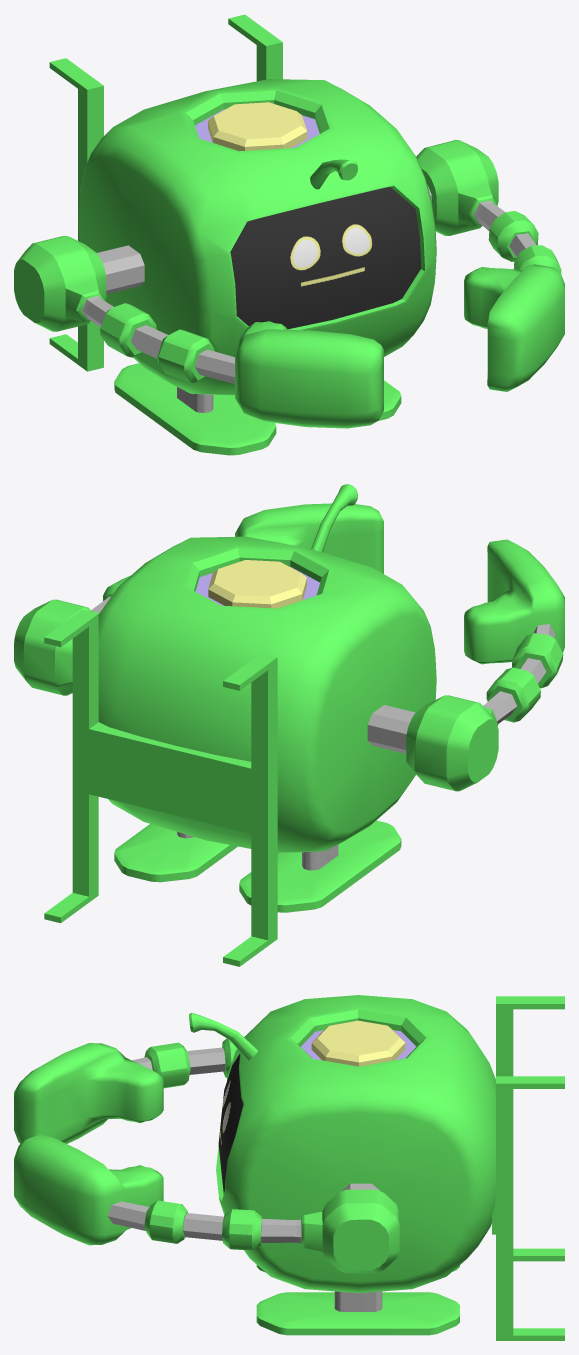
Rendered from Chara_02G.fbx.
The picture shows the model from 3 angles, top to bottom: view 1: azimuth 30°, elevation 25°; view 2: azimuth 150°, elevation 25°; view 3: azimuth 270°, elevation 25°; orthographic projection. The views are drawn at different scales.
Parts seen in each view (by area): view 1: Face, pCube48 (×2), R_Hand, L_Hand, R_Leg, pCube51, pCube50, pCube47, Horn; view 2: Face, pCube48 (×2), pCube52, pCube51, R_Hand, pCube50, R_Leg, L_Hand, L_Leg, pCube47, Horn; view 3: Face, pCube48 (×2), R_Hand, L_Hand, L_Leg, pCube50, pCube51, Horn.
Boxes of the visible parts, x1,y1,x2,y2 form: Face: [78, 79, 436, 395]; pCube48 (×2): [14, 140, 561, 383]; R_Hand: [235, 321, 383, 428]; L_Hand: [464, 264, 564, 391]; R_Leg: [114, 363, 276, 455]; pCube51: [49, 58, 103, 371]; pCube50: [228, 14, 282, 81]; pCube47: [97, 245, 144, 294]; Horn: [310, 159, 357, 189]; Face: [98, 536, 436, 852]; pCube48 (×2): [14, 575, 563, 791]; pCube52: [89, 722, 251, 833]; pCube51: [223, 653, 277, 966]; R_Hand: [464, 539, 564, 664]; pCube50: [44, 609, 98, 923]; R_Leg: [239, 820, 401, 912]; L_Hand: [235, 503, 383, 573]; L_Leg: [114, 824, 237, 882]; pCube47: [367, 705, 415, 753]; Horn: [311, 484, 357, 552]; Face: [216, 995, 495, 1293]; pCube48 (×2): [107, 1036, 399, 1273]; R_Hand: [14, 1043, 163, 1143]; L_Hand: [14, 1134, 163, 1245]; L_Leg: [256, 1291, 459, 1335]; pCube50: [496, 1076, 564, 1340]; pCube51: [496, 996, 564, 1261]; Horn: [189, 1012, 257, 1060].
Bounding box in the file's own units: 186 × 121 × 213.
